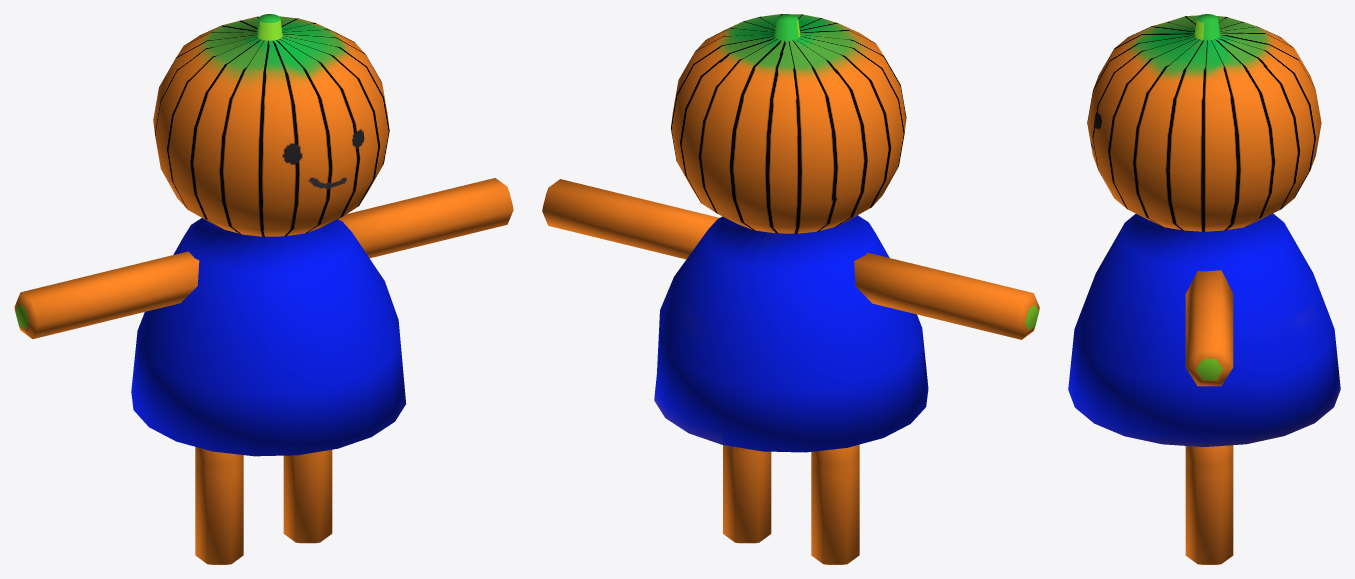
File: first3d.glb
3 renders of one model, left to right at view 1: azimuth 30°, elevation 25°; view 2: azimuth 150°, elevation 25°; view 3: azimuth 270°, elevation 25°, orthographic.
Visible parts, largest first — view 1: body; view 2: body; view 3: body.
Part boxes in pixels (left/top/right/bottom): body: left=14, top=14, right=513, bottom=564; body: left=542, top=14, right=1039, bottom=564; body: left=1068, top=14, right=1340, bottom=564.
Size of the model in its own units: 1.19 by 1.25 by 0.5899.
Materials: 1 (1 with a texture image).
